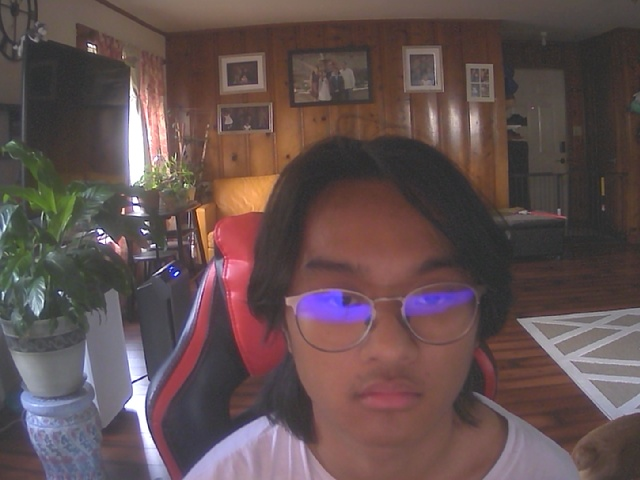neutral: (269, 155, 488, 449)
